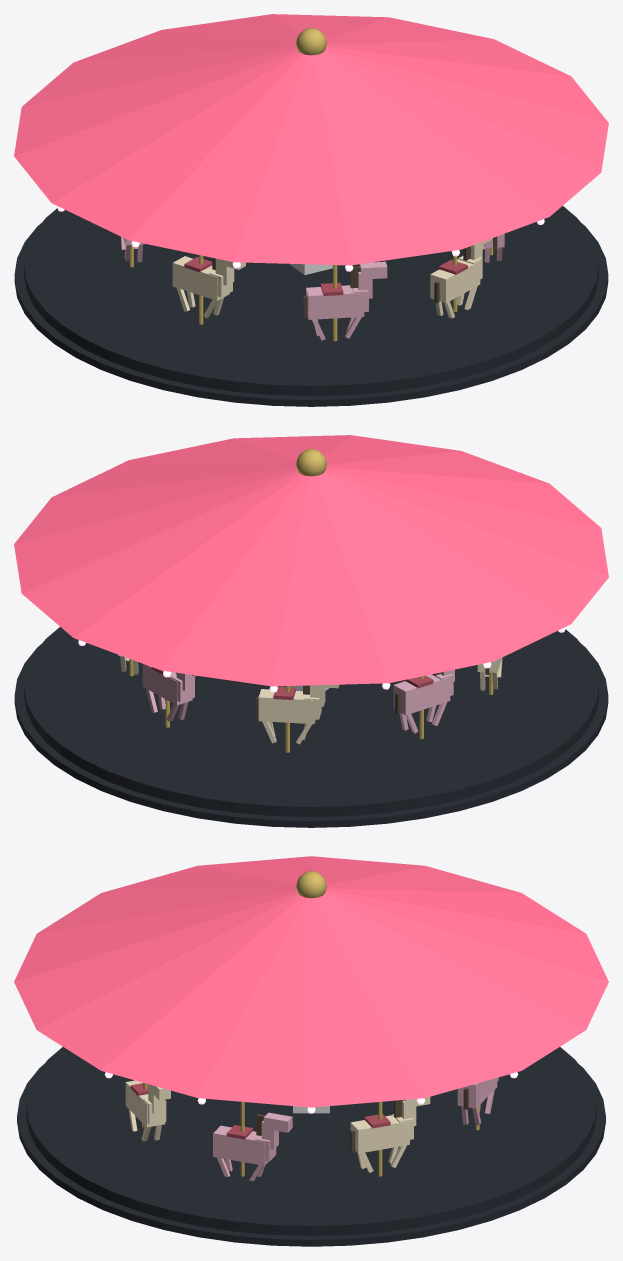
Rendered from carousel.glb.
3 views of the same model, one above another, from view 1: azimuth 30°, elevation 25°; view 2: azimuth 150°, elevation 25°; view 3: azimuth 270°, elevation 25° (orthographic).
Visible parts, largest first — view 1: PlatformMesh, Skirt, HorseMesh_5, HorseMesh_4, HorseMesh_6; view 2: PlatformMesh, Skirt, HorseMesh_2, HorseMesh_3, HorseMesh_1, HorseMesh_4; view 3: PlatformMesh, Skirt, HorseMesh_7, HorseMesh_0, HorseMesh_6, HorseMesh_1.
Boxes of the visible parts, <box> form: PlatformMesh: <box>14,14,608,395</box>; Skirt: <box>14,223,608,406</box>; HorseMesh_5: <box>303,261,387,341</box>; HorseMesh_4: <box>172,255,245,324</box>; HorseMesh_6: <box>430,238,491,318</box>; PlatformMesh: <box>14,435,608,816</box>; Skirt: <box>14,644,608,827</box>; HorseMesh_2: <box>256,684,339,752</box>; HorseMesh_3: <box>393,669,454,739</box>; HorseMesh_1: <box>142,664,196,727</box>; HorseMesh_4: <box>477,657,502,694</box>; PlatformMesh: <box>14,856,608,1235</box>; Skirt: <box>17,1064,605,1246</box>; HorseMesh_7: <box>212,1101,292,1181</box>; HorseMesh_0: <box>350,1097,430,1176</box>; HorseMesh_6: <box>125,1080,170,1141</box>; HorseMesh_1: <box>457,1077,498,1130</box>.
Bounding box in the file's own units: 9.6 × 4.45 × 9.6.
